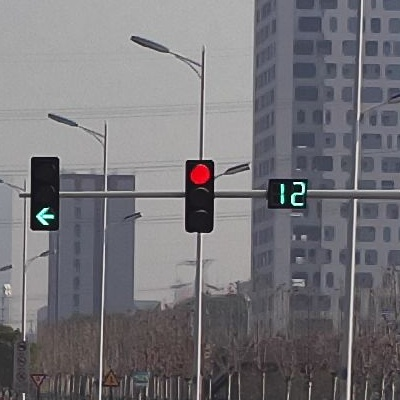green_arrow_left: (31, 157, 58, 231)
red_circle: (186, 159, 214, 233)
